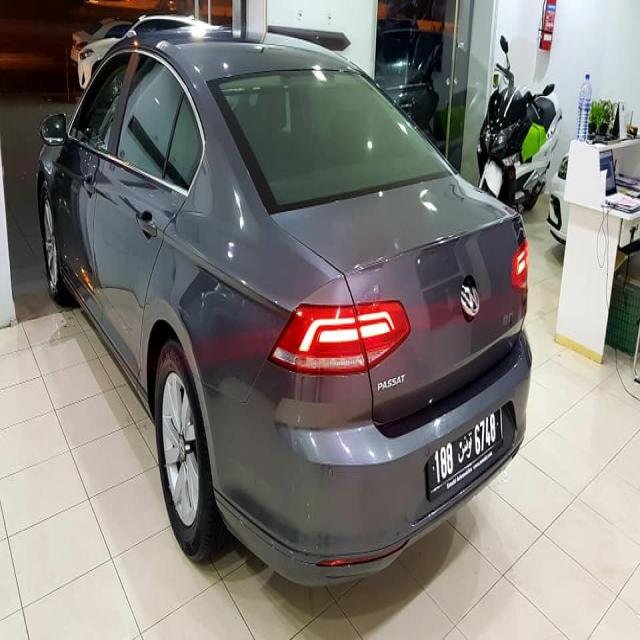LP: (428, 403, 503, 498)
